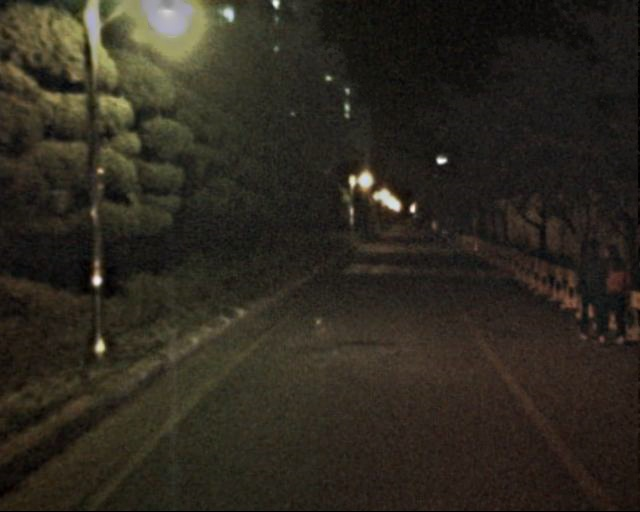person: (567, 237, 614, 350), (596, 245, 632, 348)
